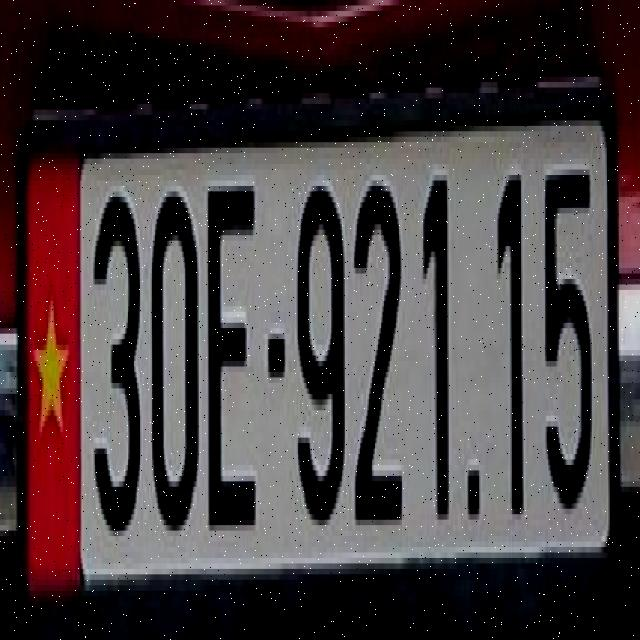0: (148, 190, 202, 540)
1: (490, 154, 532, 540), (418, 167, 460, 542)
2: (352, 176, 408, 532)
3: (90, 189, 144, 545)
5: (541, 158, 598, 527)
9: (292, 171, 348, 538)
E: (204, 171, 261, 550)
